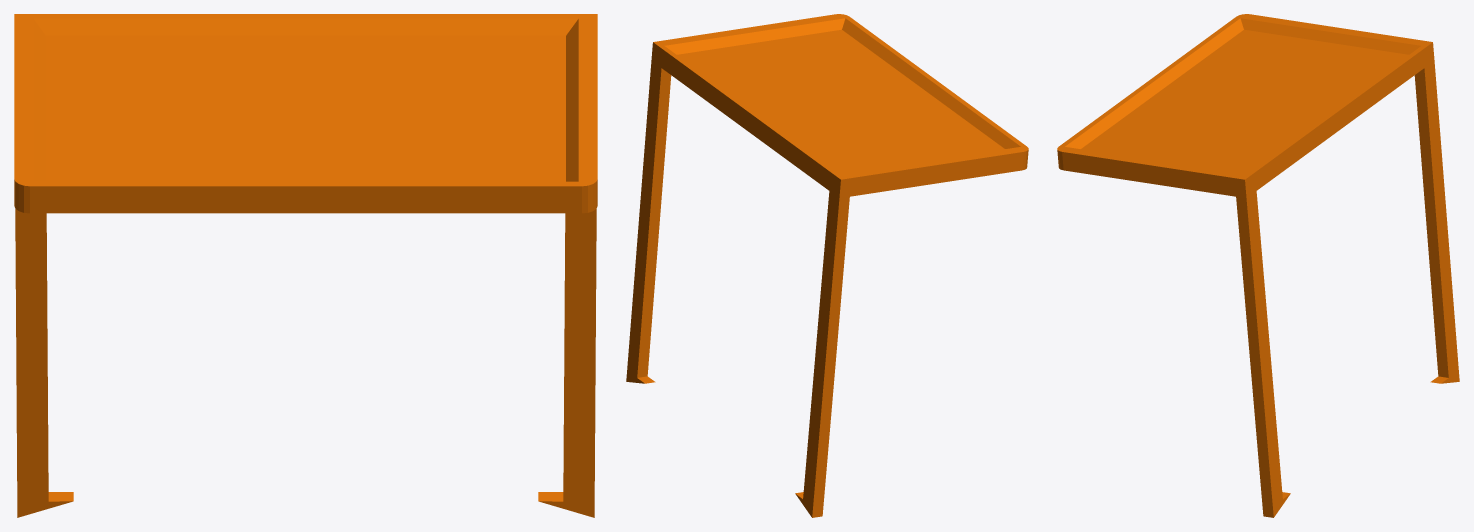
File: LightSwitchShelf.glb
3 views of the same model, side by side, from view 1: azimuth 30°, elevation 25°; view 2: azimuth 150°, elevation 25°; view 3: azimuth 270°, elevation 25° (orthographic). The views are drawn at different scales.
Visible parts, largest first — view 1: LightSwitchShelf_LowRes; view 2: LightSwitchShelf_LowRes; view 3: LightSwitchShelf_LowRes.
Part boxes in pixels (x1,y1,x2,y2): LightSwitchShelf_LowRes: (14,14,597,517); LightSwitchShelf_LowRes: (626,14,1028,517); LightSwitchShelf_LowRes: (1057,14,1459,517).
Bounding box in the file's own units: 111 × 91.06 × 99.72.
